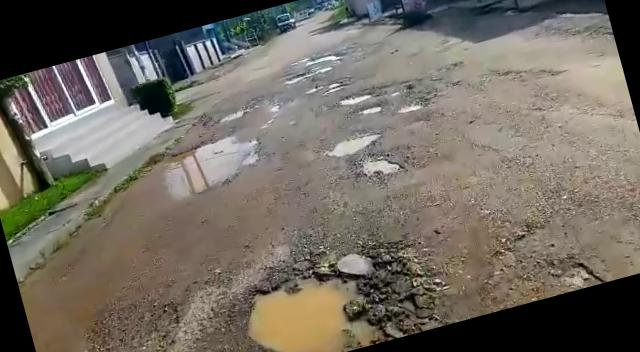pothole: (228, 245, 425, 352), (124, 130, 271, 210), (323, 127, 384, 161), (353, 146, 407, 184), (282, 63, 334, 85), (306, 76, 352, 100), (335, 86, 378, 107), (215, 104, 252, 126), (394, 98, 426, 117), (356, 102, 384, 118)
